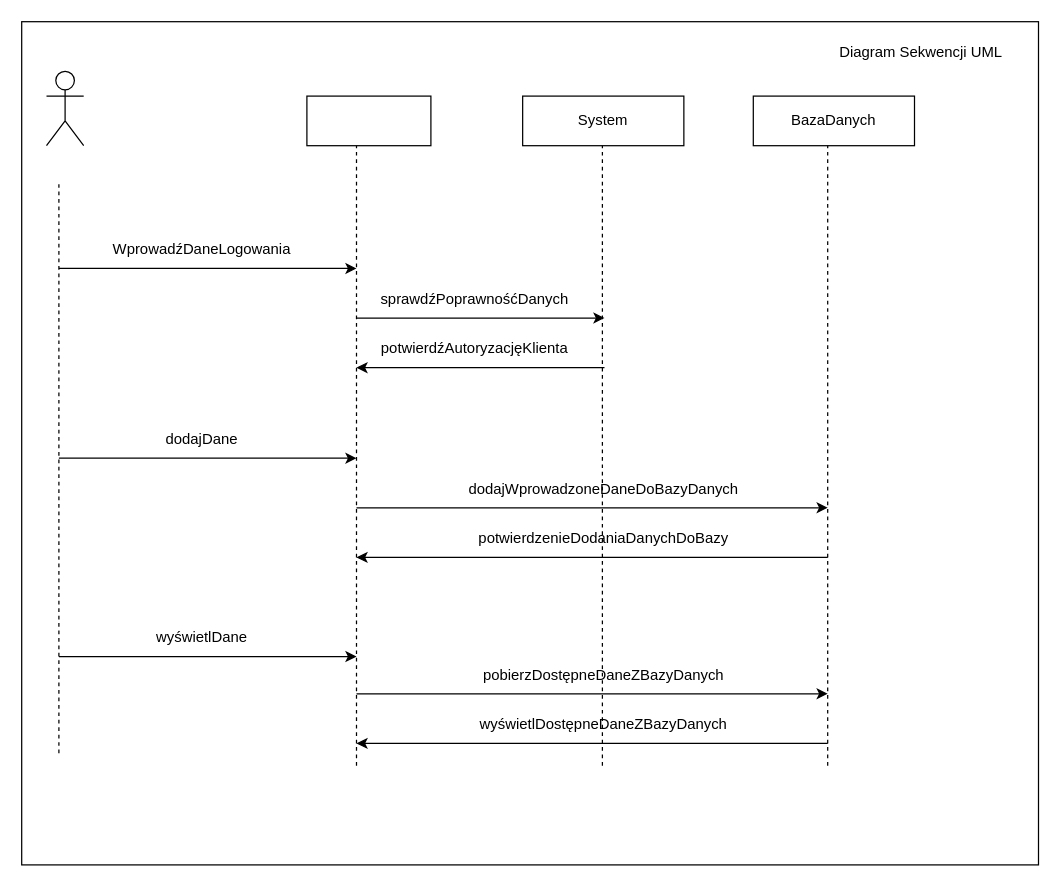
This 1060x887 diagram has some shape labels left out. The centre of each missing label's shape, as x and y in pixels:
"Klient" goes at point (64, 108).
"Pharmacy" goes at point (368, 120).
